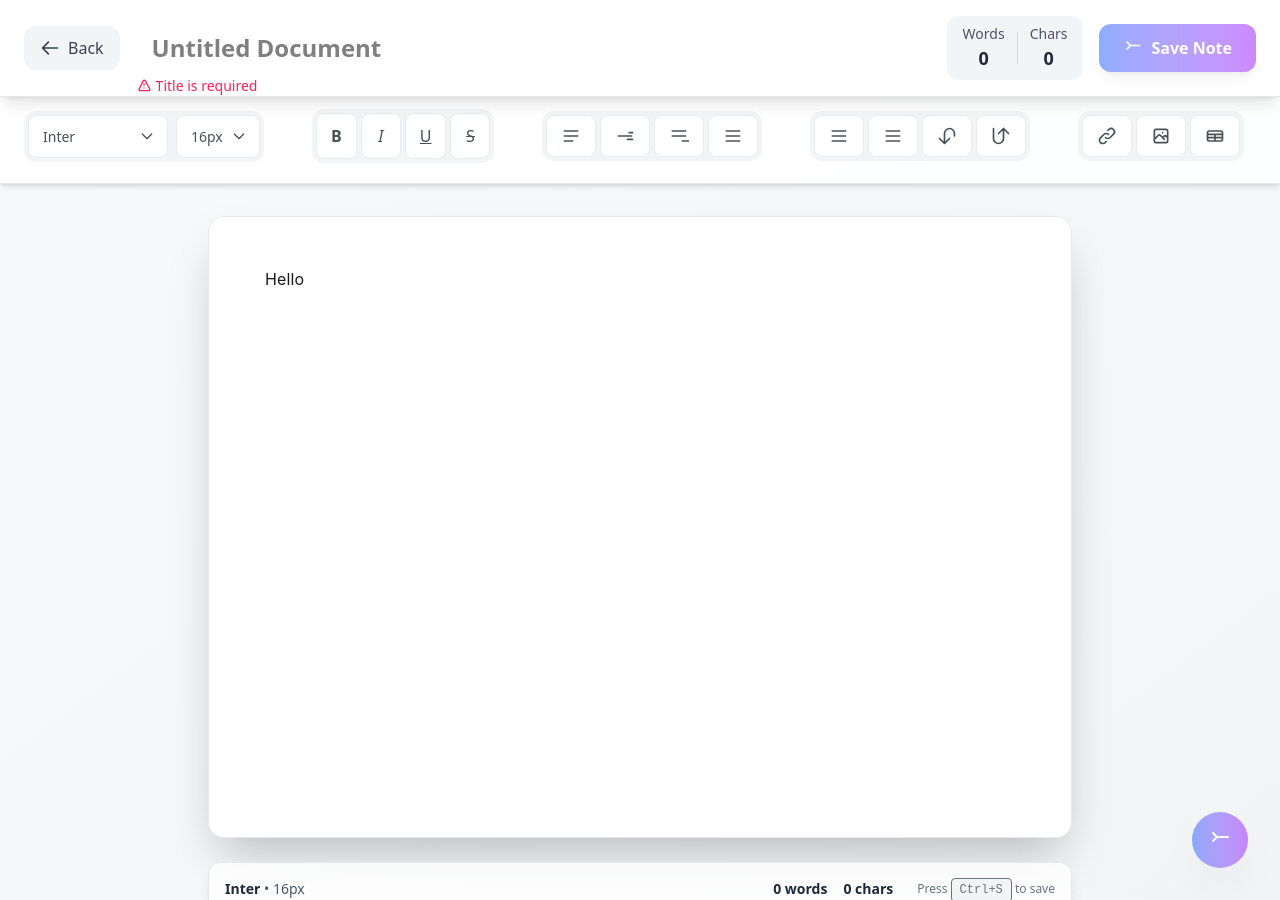
Test: NoteForm Component › displays character count in status bar
Clear the text box labelled "Hello" at (640, 527), box [209,217,1071,837]
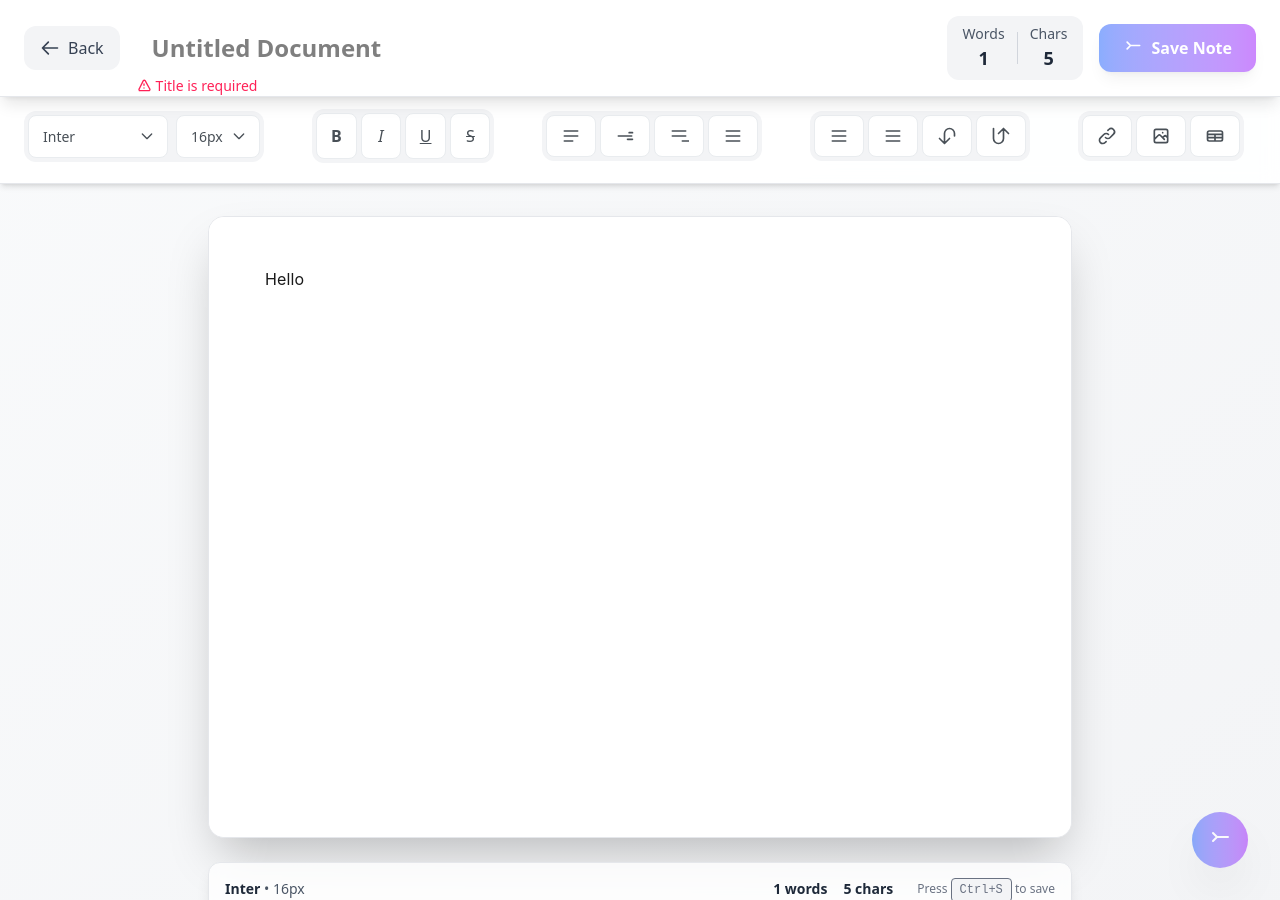
Check: the text "5 chars" is shown, box [843,879,893,899]
